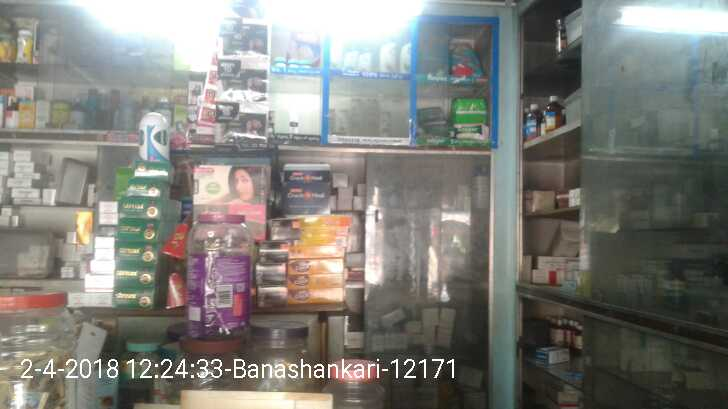vicks: (274, 57, 290, 67), (290, 57, 302, 69), (302, 58, 313, 69)
